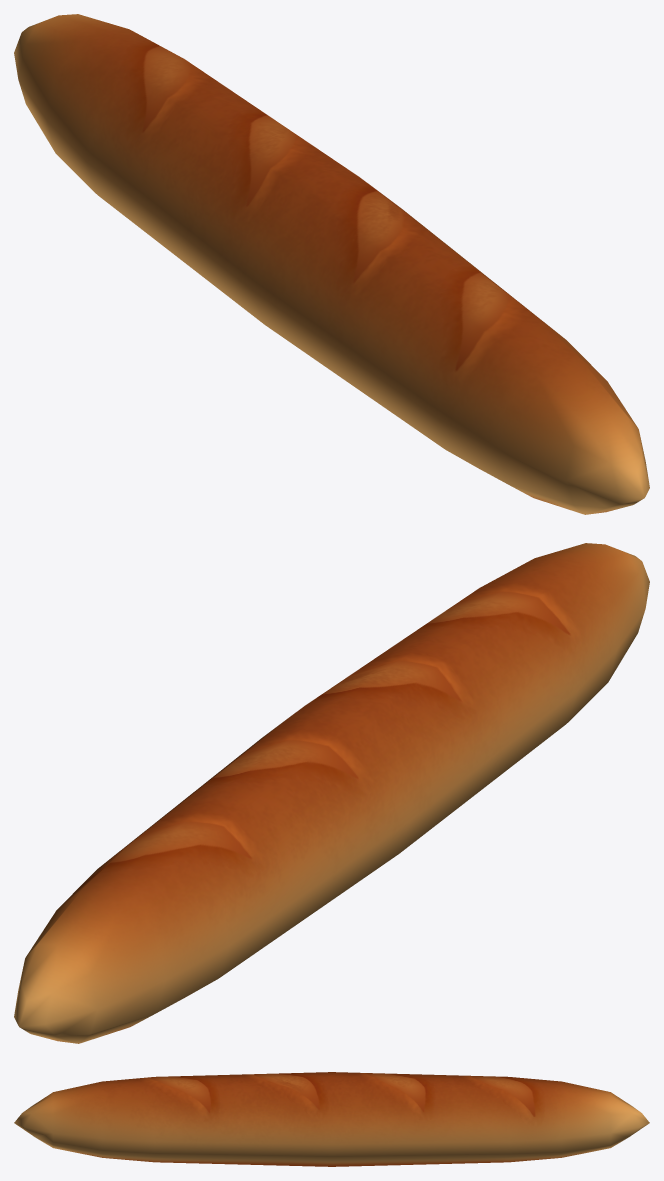
Rendered from Baguette_02.fbx.
3 views of the same model, one above another, from view 1: azimuth 30°, elevation 25°; view 2: azimuth 150°, elevation 25°; view 3: azimuth 270°, elevation 25° (orthographic). The views are drawn at different scales.
Visible parts, largest first — view 1: Baguette_02; view 2: Baguette_02; view 3: Baguette_02.
Part boxes in pixels (box(x1,y1,x2,y2)): Baguette_02: box(14, 14, 649, 514); Baguette_02: box(14, 543, 649, 1043); Baguette_02: box(14, 1072, 649, 1166).
Size of the model in its own units: 20.27 by 20 by 137.
